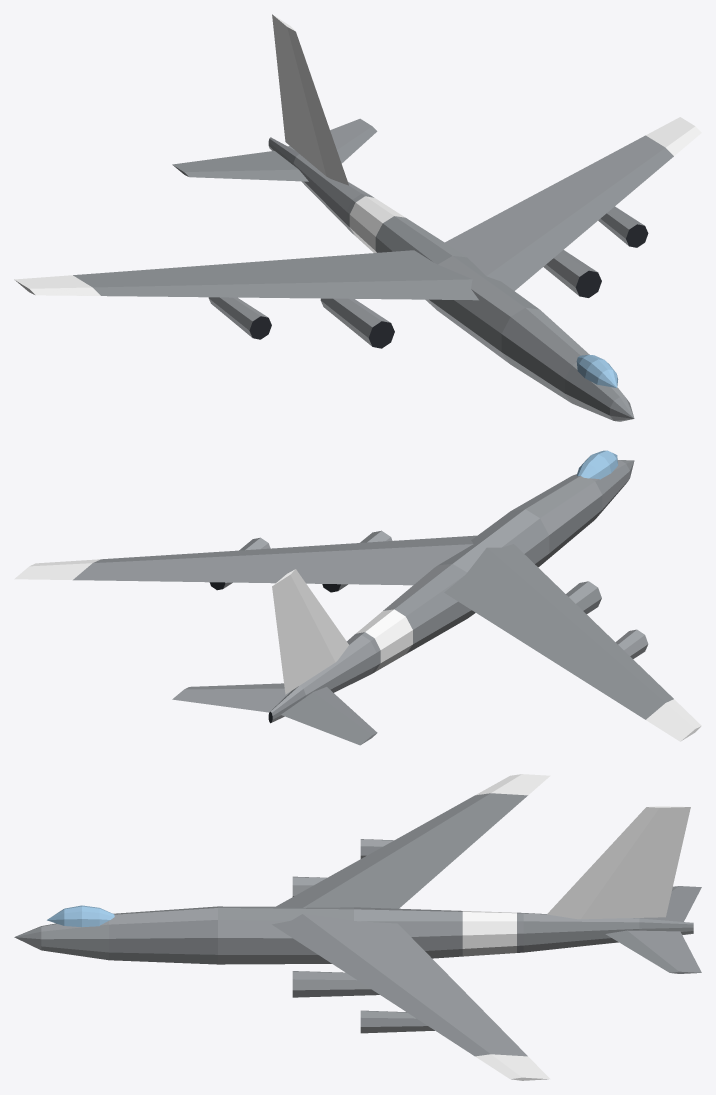
File: bomber_jet_lod.glb
The picture shows the model from 3 angles, top to bottom: view 1: azimuth 30°, elevation 25°; view 2: azimuth 150°, elevation 25°; view 3: azimuth 270°, elevation 25°; orthographic projection. The views are drawn at different scales.
Parts seen in each view (by area): view 1: body; view 2: body; view 3: body.
Boxes of the visible parts, left/top/right/bottom form: body: left=14, top=14, right=701, bottom=421; body: left=14, top=450, right=701, bottom=745; body: left=14, top=774, right=701, bottom=1080.
Bounding box in the file's own units: 35.4 × 8.49 × 33.91.
